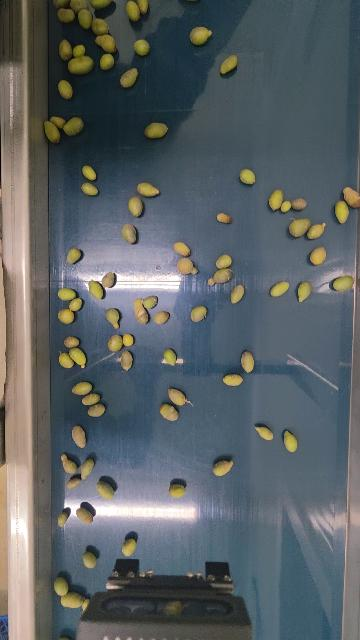Baby Potato: (66, 55, 95, 75), (93, 33, 118, 54), (43, 119, 63, 145), (207, 267, 233, 286), (62, 116, 85, 137), (288, 218, 312, 238), (189, 26, 213, 46), (133, 298, 150, 325), (219, 53, 239, 75), (119, 67, 138, 89), (334, 199, 350, 225), (69, 346, 87, 369), (342, 185, 360, 208), (332, 274, 355, 292), (144, 122, 168, 139), (212, 459, 234, 477), (176, 257, 198, 275), (77, 7, 94, 30), (136, 181, 159, 198), (282, 429, 298, 453), (269, 188, 285, 212), (96, 480, 115, 500), (167, 387, 187, 406), (309, 245, 327, 266), (60, 453, 78, 474), (159, 403, 180, 421), (61, 592, 83, 609), (124, 0, 141, 22), (71, 425, 87, 448), (296, 280, 312, 303), (307, 222, 326, 241), (270, 280, 290, 298), (254, 424, 275, 441), (128, 196, 144, 218), (240, 350, 255, 373), (91, 17, 109, 36), (56, 6, 76, 23), (57, 79, 73, 100), (121, 223, 137, 244), (229, 284, 245, 305), (72, 380, 93, 396), (58, 38, 72, 61), (79, 459, 94, 480), (223, 372, 244, 387), (106, 307, 120, 329), (133, 38, 150, 56), (76, 507, 94, 524), (98, 52, 115, 70), (58, 351, 74, 370), (89, 279, 104, 299), (54, 576, 69, 596), (57, 308, 74, 325), (121, 538, 136, 557), (81, 392, 101, 406), (120, 350, 133, 371), (216, 253, 232, 270), (240, 168, 256, 185), (191, 305, 207, 322), (173, 241, 190, 257), (82, 551, 97, 569), (108, 334, 122, 353), (57, 287, 76, 301), (66, 247, 81, 264), (81, 164, 96, 181), (169, 483, 186, 498), (87, 403, 105, 417), (81, 181, 97, 196), (101, 271, 115, 288), (162, 348, 176, 365), (89, 0, 114, 9), (142, 295, 158, 309), (153, 310, 169, 324), (63, 335, 80, 348), (49, 115, 66, 128), (72, 43, 86, 58), (291, 197, 307, 210), (69, 297, 83, 311), (57, 510, 68, 527), (136, 0, 149, 14), (280, 199, 292, 214), (216, 212, 231, 224), (66, 477, 80, 489), (53, 0, 71, 9), (122, 333, 134, 346), (81, 598, 90, 612)
